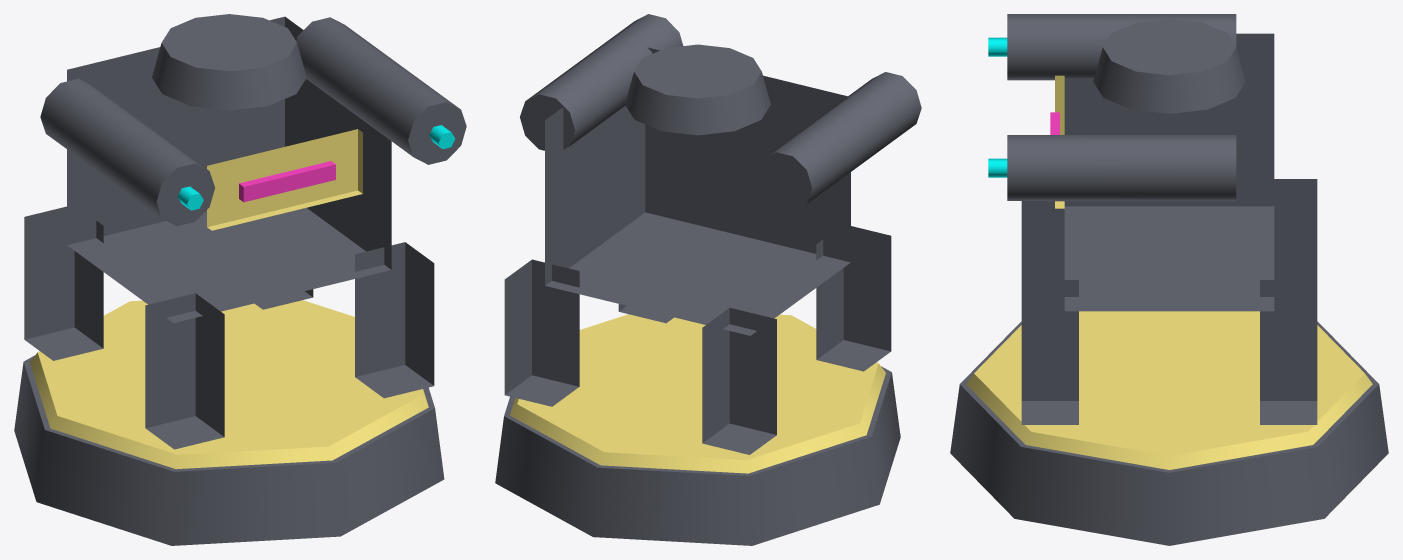
File: cyber_mech_rook.glb
The picture shows the model from 3 angles, left to right: view 1: azimuth 30°, elevation 25°; view 2: azimuth 150°, elevation 25°; view 3: azimuth 270°, elevation 25°; orthographic projection. The views are drawn at different scales.
Visible parts, largest first — view 1: cyber_mech_rook; view 2: cyber_mech_rook; view 3: cyber_mech_rook.
Boxes of the visible parts, x1=… form: cyber_mech_rook: x1=14, y1=14, x2=466, y2=545; cyber_mech_rook: x1=495, y1=14, x2=921, y2=545; cyber_mech_rook: x1=950, y1=14, x2=1388, y2=545.
Size of the model in its own units: 0.92 by 0.94 by 0.92.
